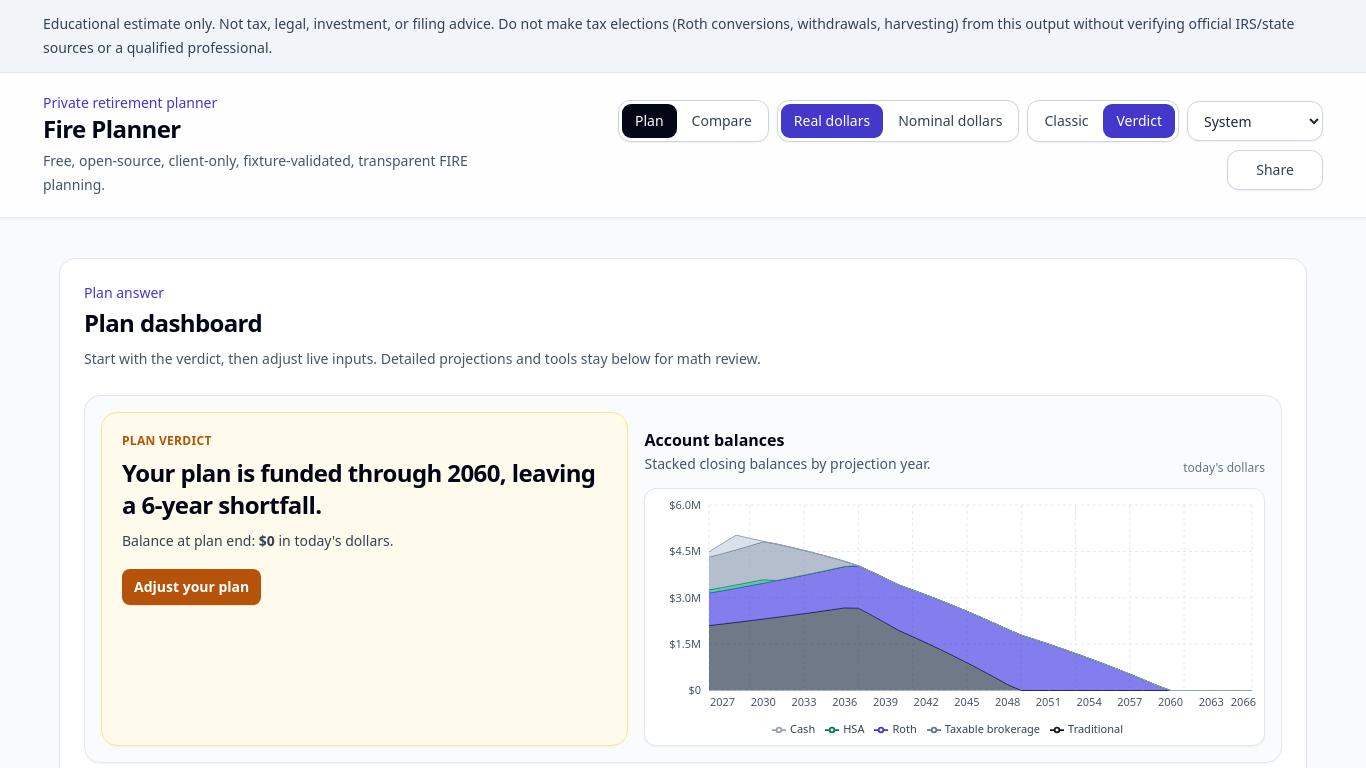
Scenario: App › routes to compare as a top-level view without a router dependency
Click the button "Compare" at (722, 121), box [680, 105, 764, 137]
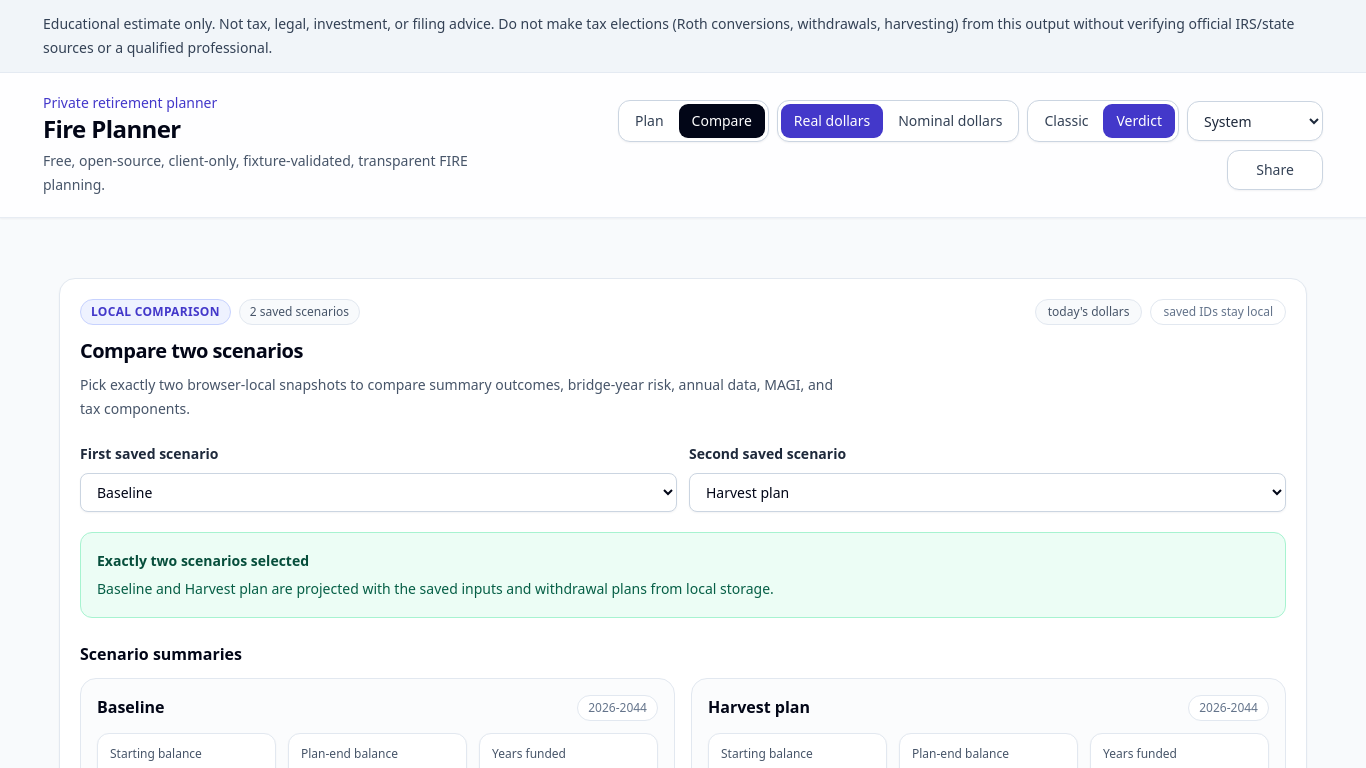
Check: the heading "Compare two scenarios" is shown, box [80, 337, 303, 364]
Check: the heading "Scenario summaries" is shown, box [80, 643, 242, 665]
